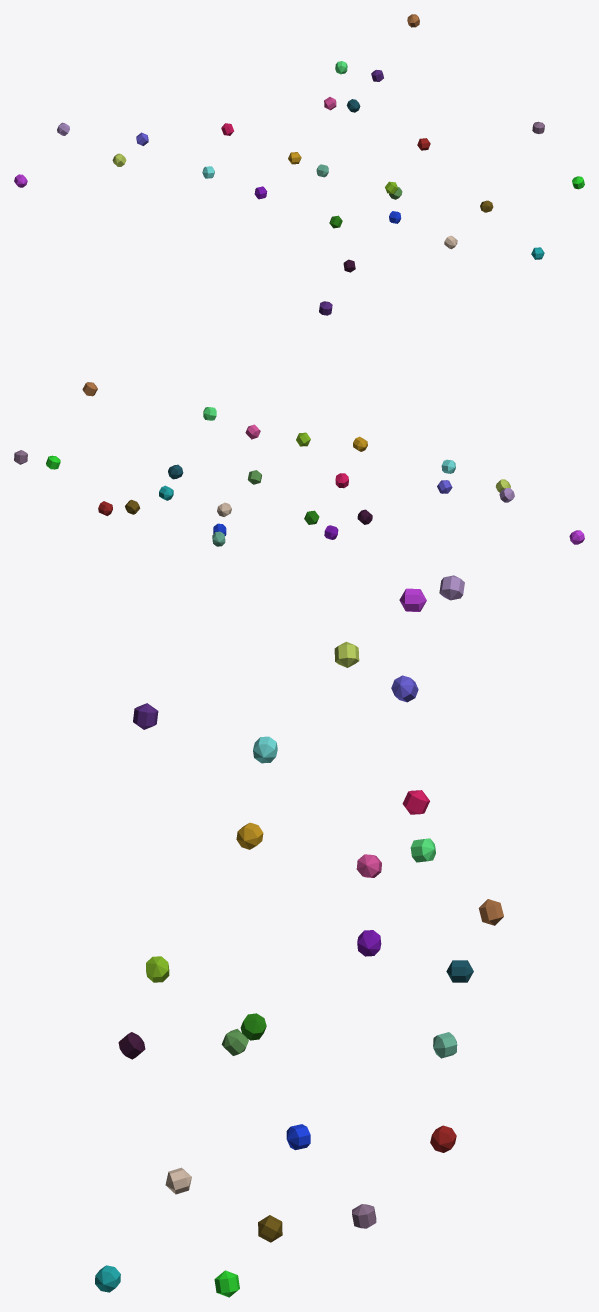
Rendered from fg-00020-bone.obj.
3 views of the same model, one above another, from view 1: azimuth 30°, elevation 25°; view 2: azimuth 150°, elevation 25°; view 3: azimuth 270°, elevation 25° (orthographic). The views are drawn at different scales.
Bounding box in the file's own units: 0.4323 × 0.1732 × 0.1467.
